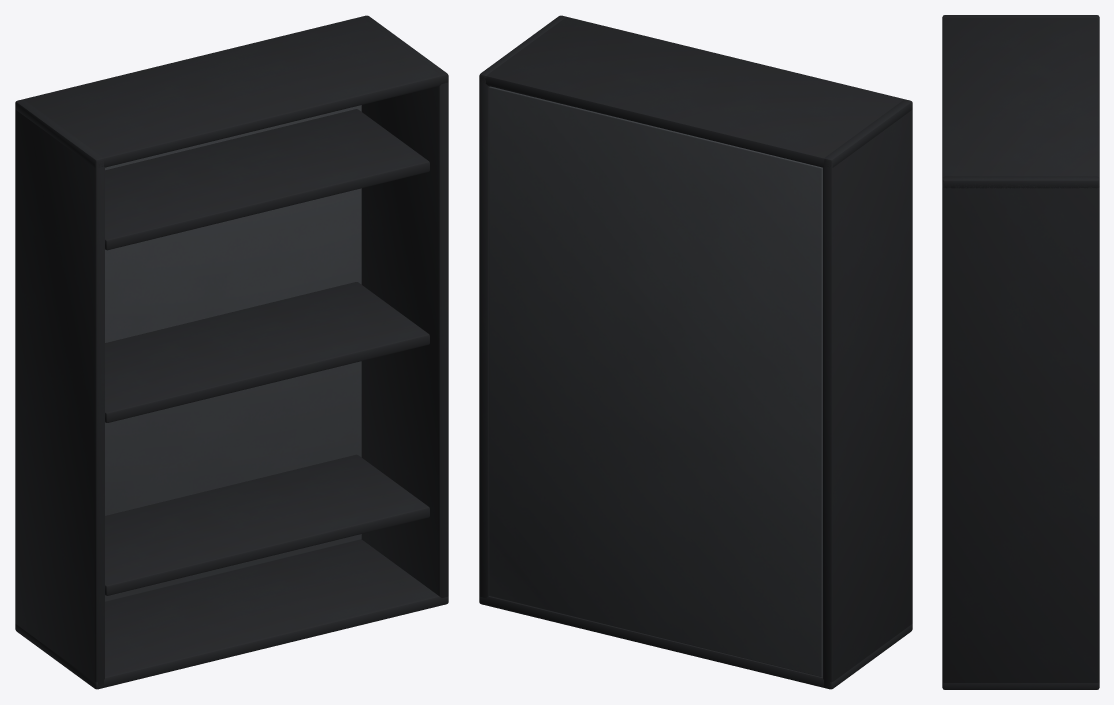
The model's file is pf_display_built_in_cabinetry_t1.glb.
3 renders of one model, left to right at view 1: azimuth 30°, elevation 25°; view 2: azimuth 150°, elevation 25°; view 3: azimuth 270°, elevation 25°, orthographic. The views are drawn at different scales.
Parts seen in each view (by area): view 1: Case_Back, Case_Left, Case_Right, Case_Top, Case_Base, Shelf_02, Shelf_03, Shelf_01; view 2: Case_Back, Case_Left, Case_Top, Case_Right, Case_Base; view 3: Case_Right, Case_Top, Case_Base, Case_Left.
Part boxes in pixels (left/top/right/bottom): Case_Back: left=105, top=105, right=361, bottom=601; Case_Left: left=15, top=99, right=104, bottom=687; Case_Right: left=361, top=15, right=448, bottom=605; Case_Top: left=15, top=17, right=448, bottom=167; Case_Base: left=15, top=539, right=448, bottom=689; Shelf_02: left=105, top=282, right=429, bottom=422; Shelf_03: left=105, top=109, right=429, bottom=250; Shelf_01: left=105, top=454, right=429, bottom=595; Case_Back: left=489, top=86, right=822, bottom=676; Case_Left: left=823, top=99, right=912, bottom=689; Case_Top: left=479, top=17, right=912, bottom=167; Case_Right: left=479, top=15, right=566, bottom=605; Case_Base: left=479, top=596, right=912, bottom=689; Case_Right: left=942, top=176, right=1099, bottom=684; Case_Top: left=942, top=17, right=1099, bottom=188; Case_Base: left=942, top=682, right=1099, bottom=689; Case_Left: left=942, top=15, right=1099, bottom=19.
Bounding box in the file's own units: 1.2 × 1.72 × 0.48.
Materials: 3 (2 with a texture image).
